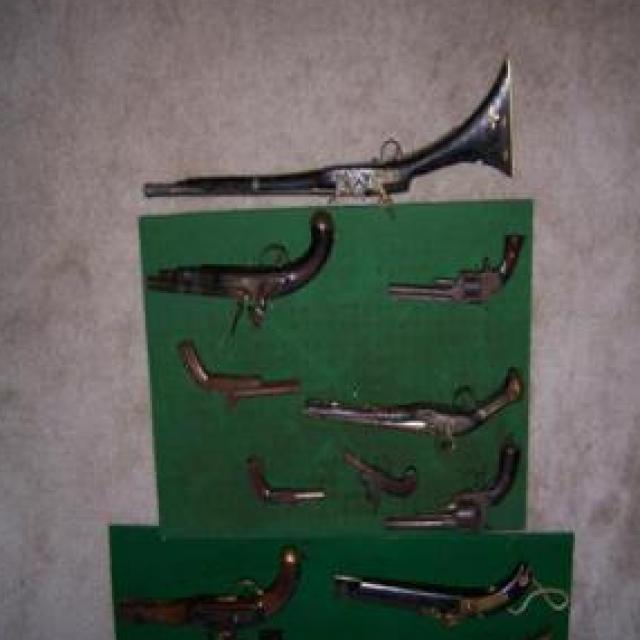pistol: (138, 215, 338, 329), (384, 434, 530, 539), (389, 240, 528, 314), (178, 329, 302, 409), (244, 448, 327, 514), (346, 450, 416, 512)
